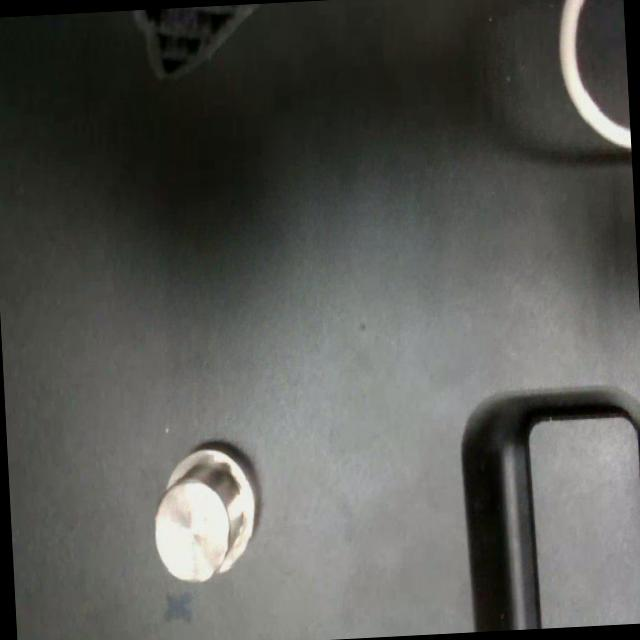sensor: (147, 442, 260, 586)
